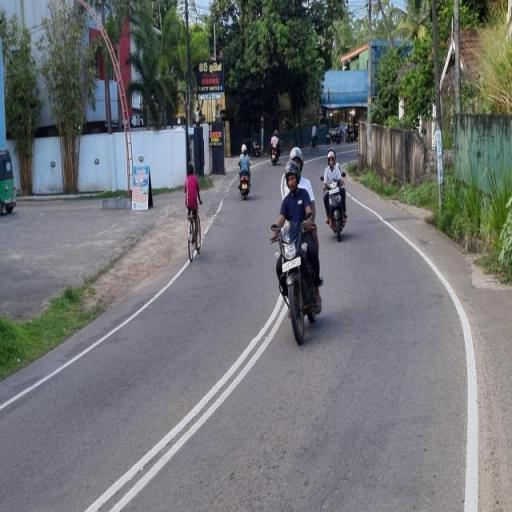double_white_line: (80, 298, 285, 510)
